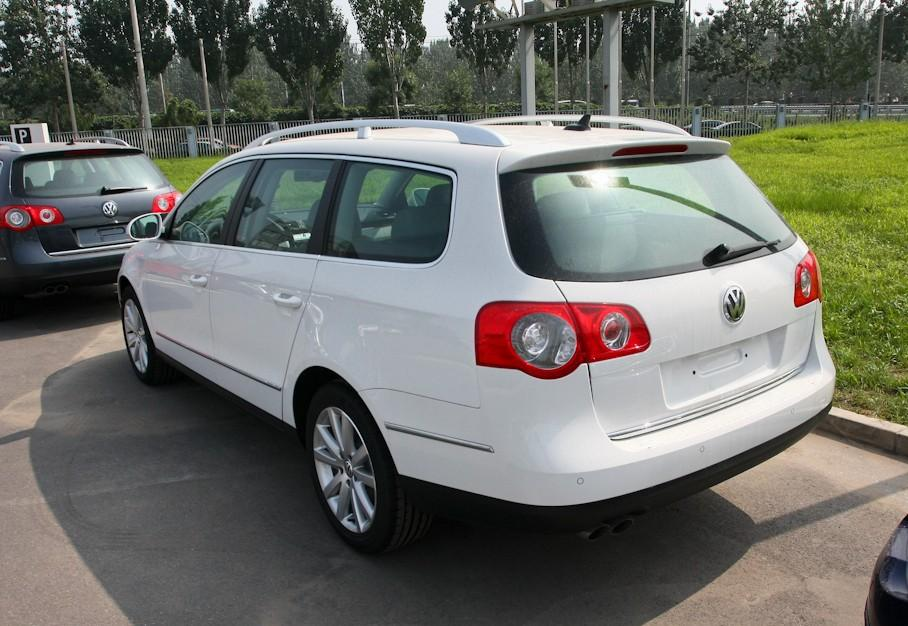Wagon: (115, 122, 838, 559)
